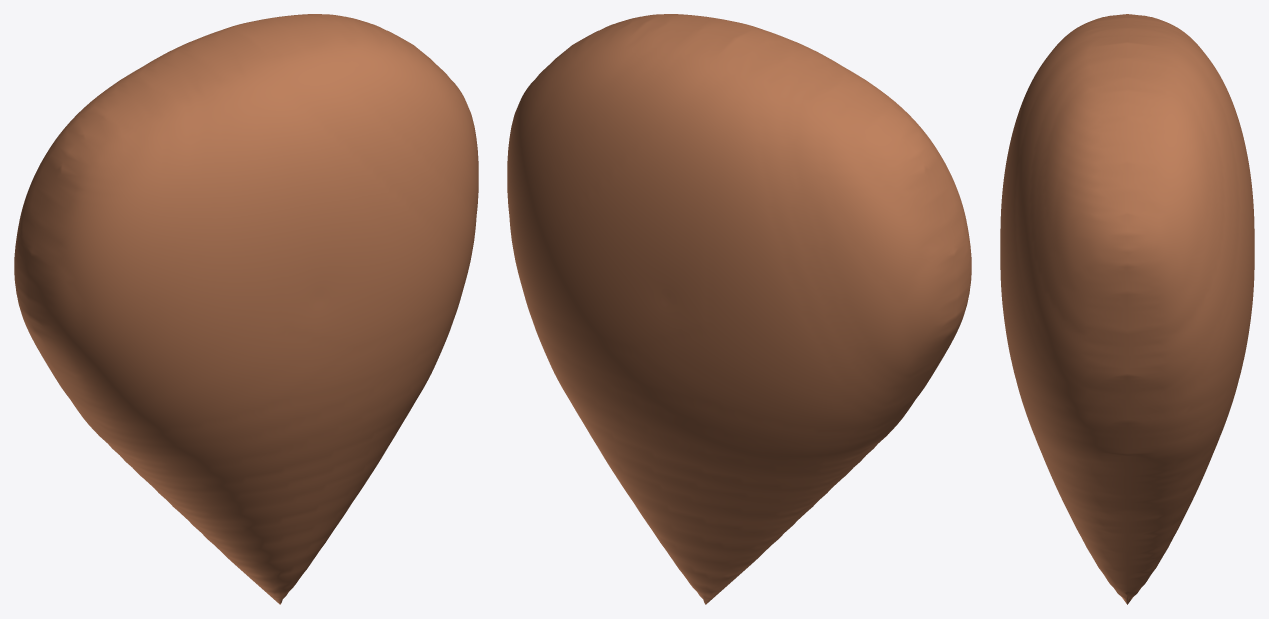
Rendered from seed.fbx.
3 views of the same model, side by side, from view 1: azimuth 30°, elevation 25°; view 2: azimuth 150°, elevation 25°; view 3: azimuth 270°, elevation 25° (orthographic). The views are drawn at different scales.
Visible parts, largest first — view 1: root; view 2: root; view 3: root.
Boxes of the visible parts, x1,y1,x2,y2 form: root: (14, 14, 478, 604); root: (507, 14, 971, 604); root: (1000, 14, 1254, 604).
Bounding box in the file's own units: 0.2159 × 0.2716 × 0.114.
